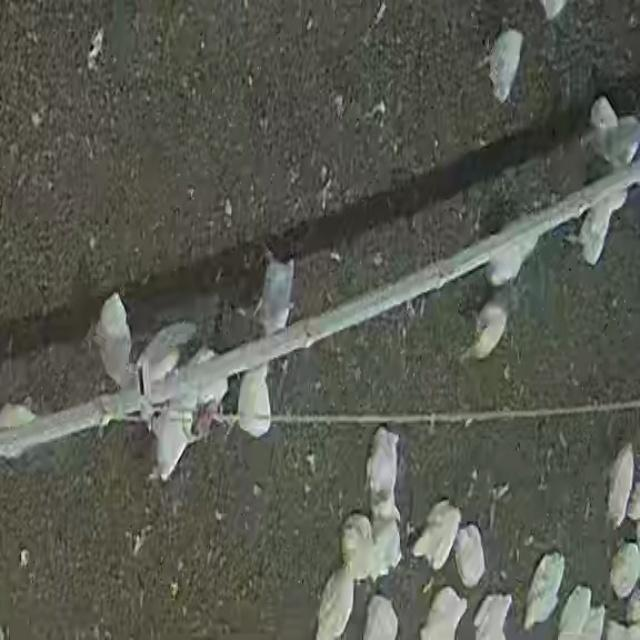chicken: (252, 243, 304, 340), (94, 292, 136, 394), (576, 190, 624, 268), (148, 403, 196, 481), (413, 501, 462, 572), (523, 552, 565, 629), (337, 514, 379, 586), (234, 366, 274, 440), (488, 231, 540, 286), (314, 567, 355, 636), (462, 300, 508, 361), (364, 427, 404, 497), (370, 497, 406, 574), (488, 28, 524, 98), (606, 446, 634, 529), (454, 525, 486, 587), (609, 540, 640, 598)
